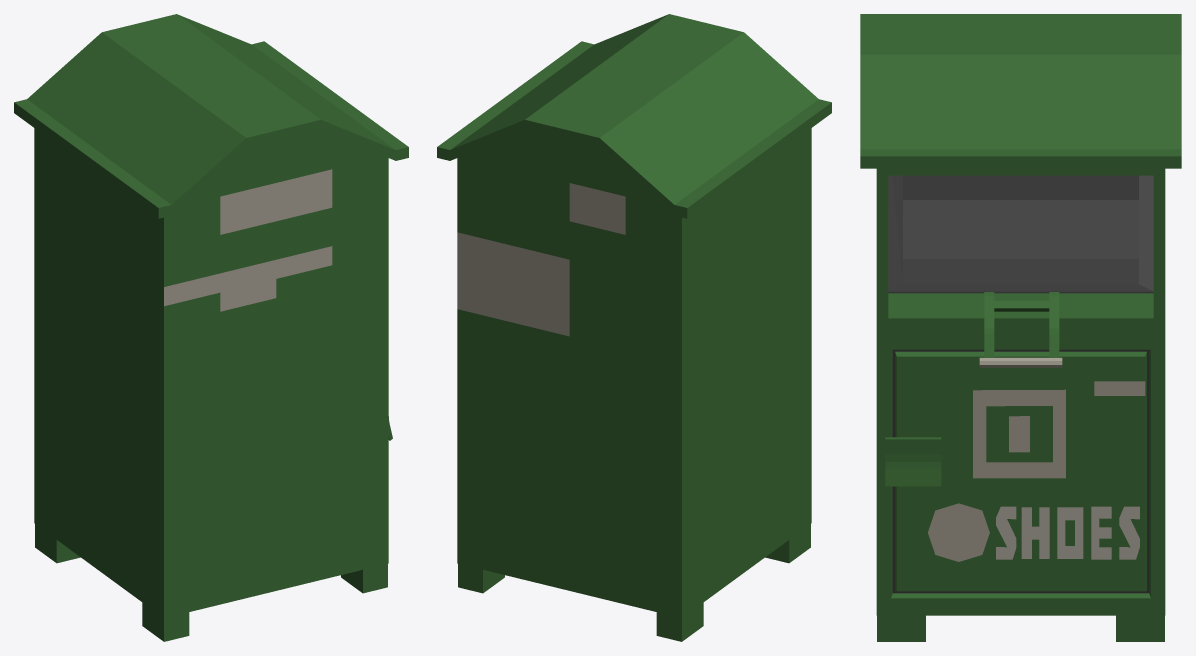
The model's file is SM_clothes_bin_2.gltf.
3 views of the same model, side by side, from view 1: azimuth 30°, elevation 25°; view 2: azimuth 150°, elevation 25°; view 3: azimuth 270°, elevation 25° (orthographic). The views are drawn at different scales.
Parts seen in each view (by area): view 1: SM_clothes_bin_2; view 2: SM_clothes_bin_2; view 3: SM_clothes_bin_2.
Part boxes in pixels (bbox=[...]): SM_clothes_bin_2: bbox=[14, 14, 408, 641]; SM_clothes_bin_2: bbox=[437, 14, 831, 641]; SM_clothes_bin_2: bbox=[860, 14, 1181, 641].
Size of the model in its own units: 1.47 by 2.58 by 1.38.
Materials: 1 (1 with a texture image).
